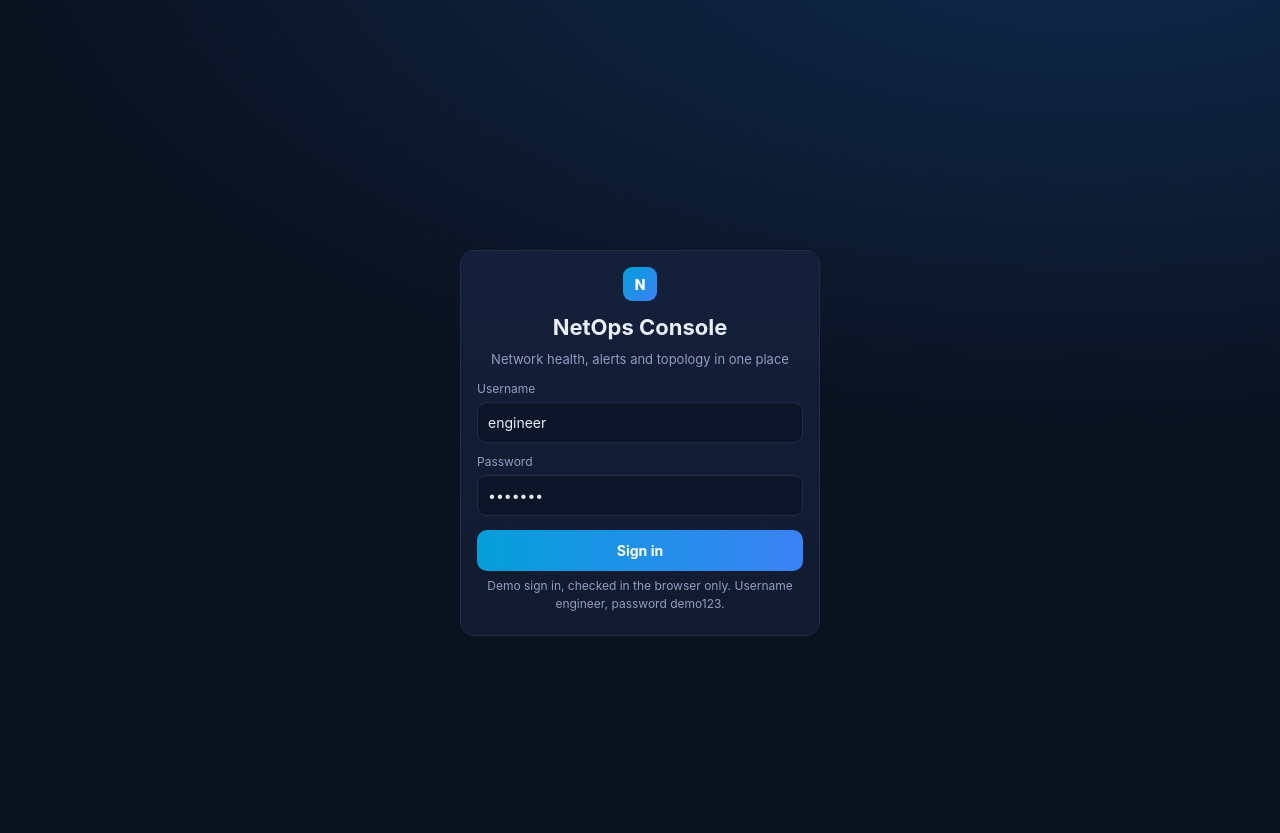
Test case: App › filters devices and shows an empty state
Click the button "Sign in" at {"x": 640, "y": 550}, box [477, 530, 803, 571]
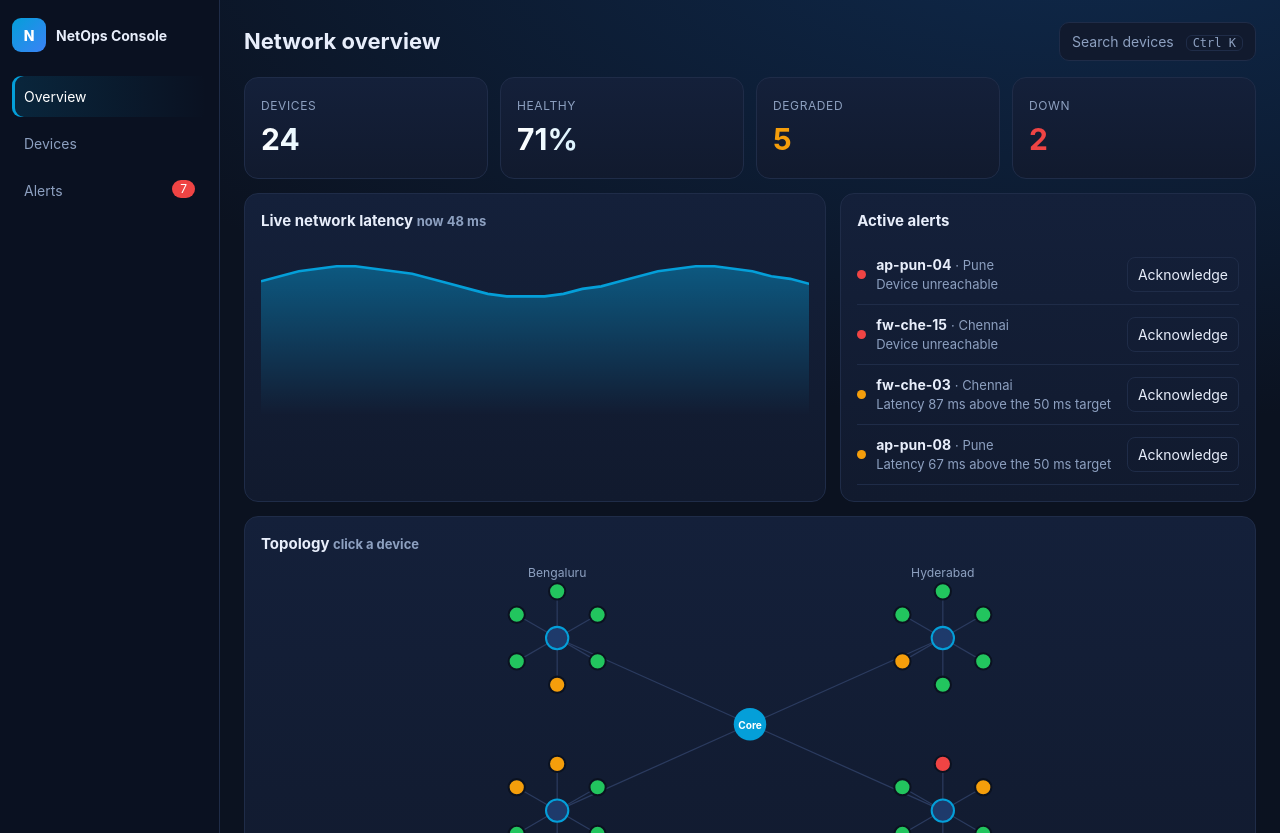
Click the button "Devices" at {"x": 110, "y": 144}, box [12, 123, 207, 164]
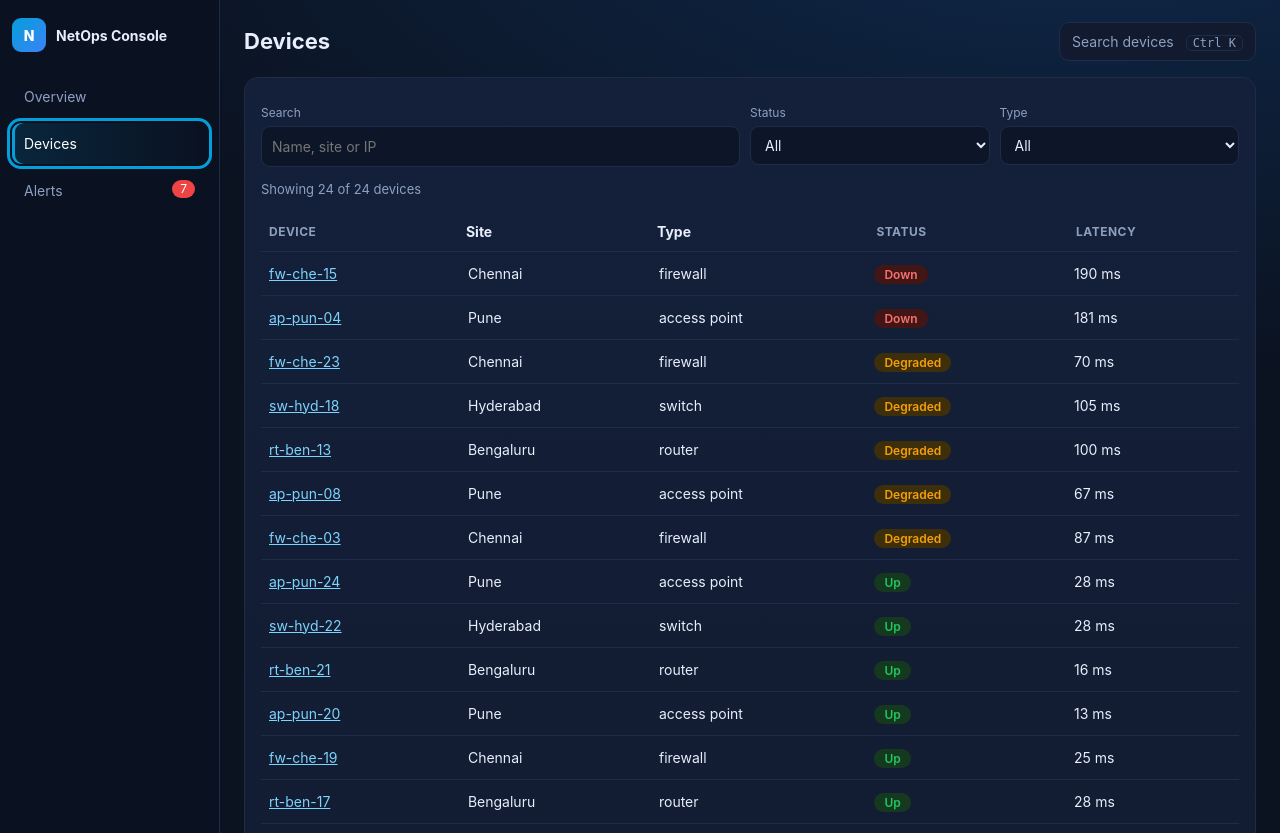
Check: the text "Showing 24 of 24 devices" is shown, box [261, 181, 421, 197]
Select "Down" in the dropdown labelled "Status" at {"x": 870, "y": 146}, box [750, 126, 990, 165]
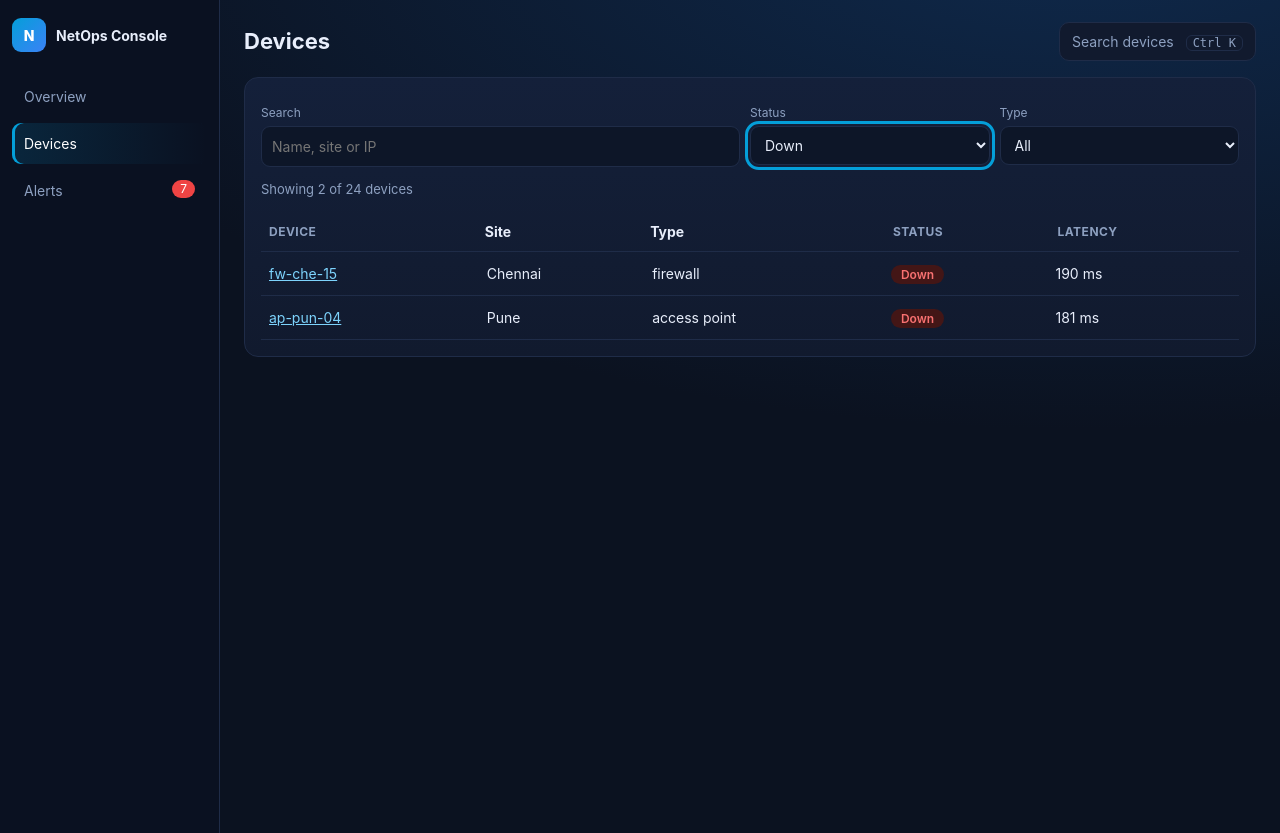
Check: the text "Showing 2 of 24 devices" is shown, box [261, 181, 413, 197]
Type "zzz" into the field labelled "Search" at {"x": 500, "y": 146}, box [261, 126, 740, 167]
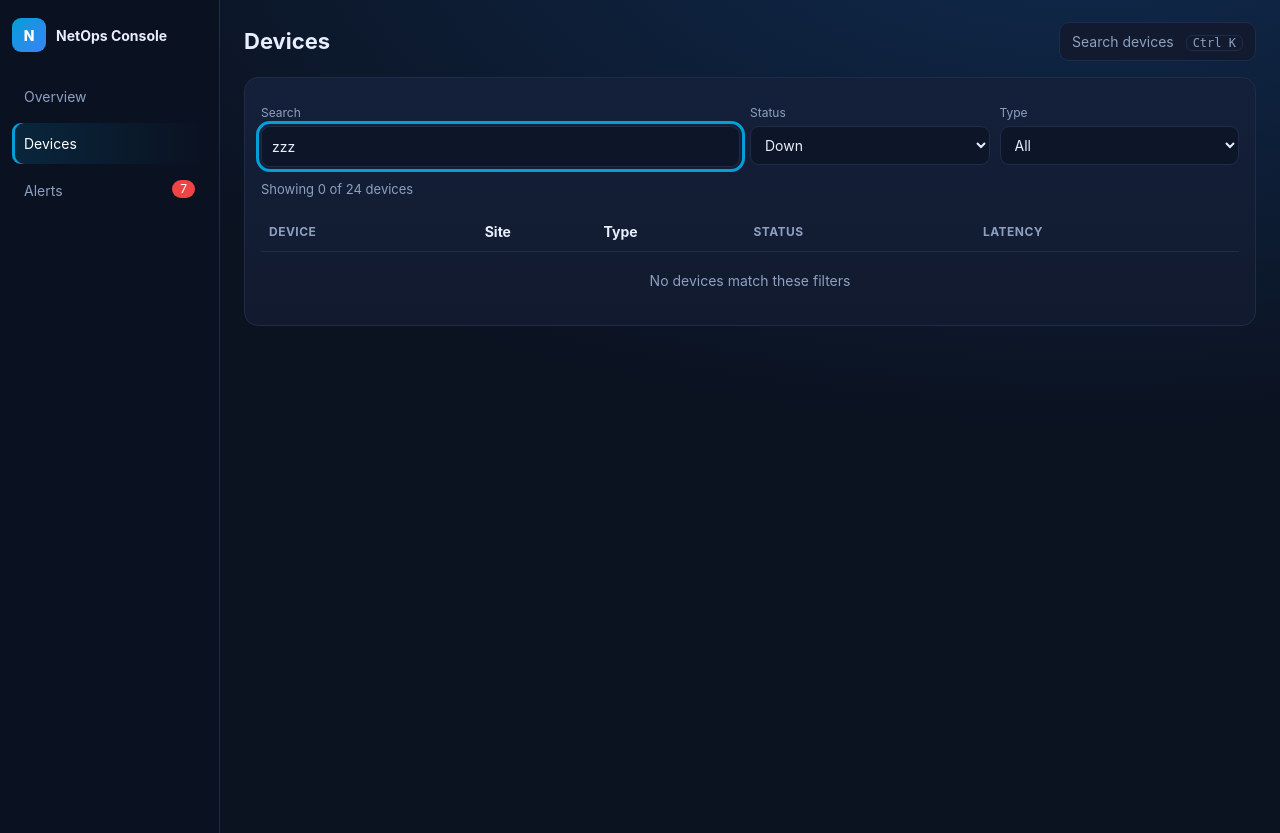
Check: the text "No devices match these filters" is shown, box [650, 272, 850, 288]
